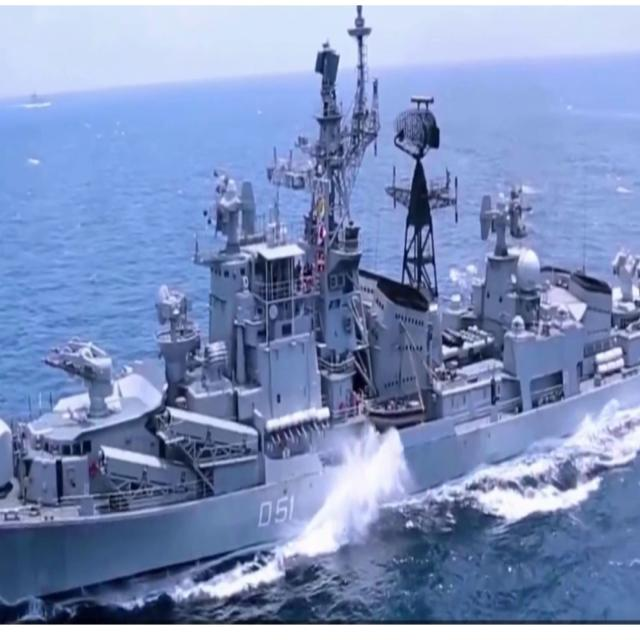OCR: (250, 487, 300, 538)
